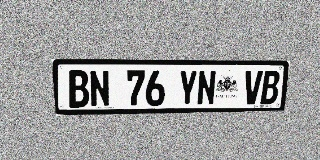6: (146, 70, 165, 106)
7: (126, 70, 145, 107)
B: (67, 70, 90, 108), (260, 70, 280, 104)
N: (89, 70, 110, 107), (197, 70, 216, 105)
V: (243, 70, 263, 105)
Y: (178, 70, 198, 106)
